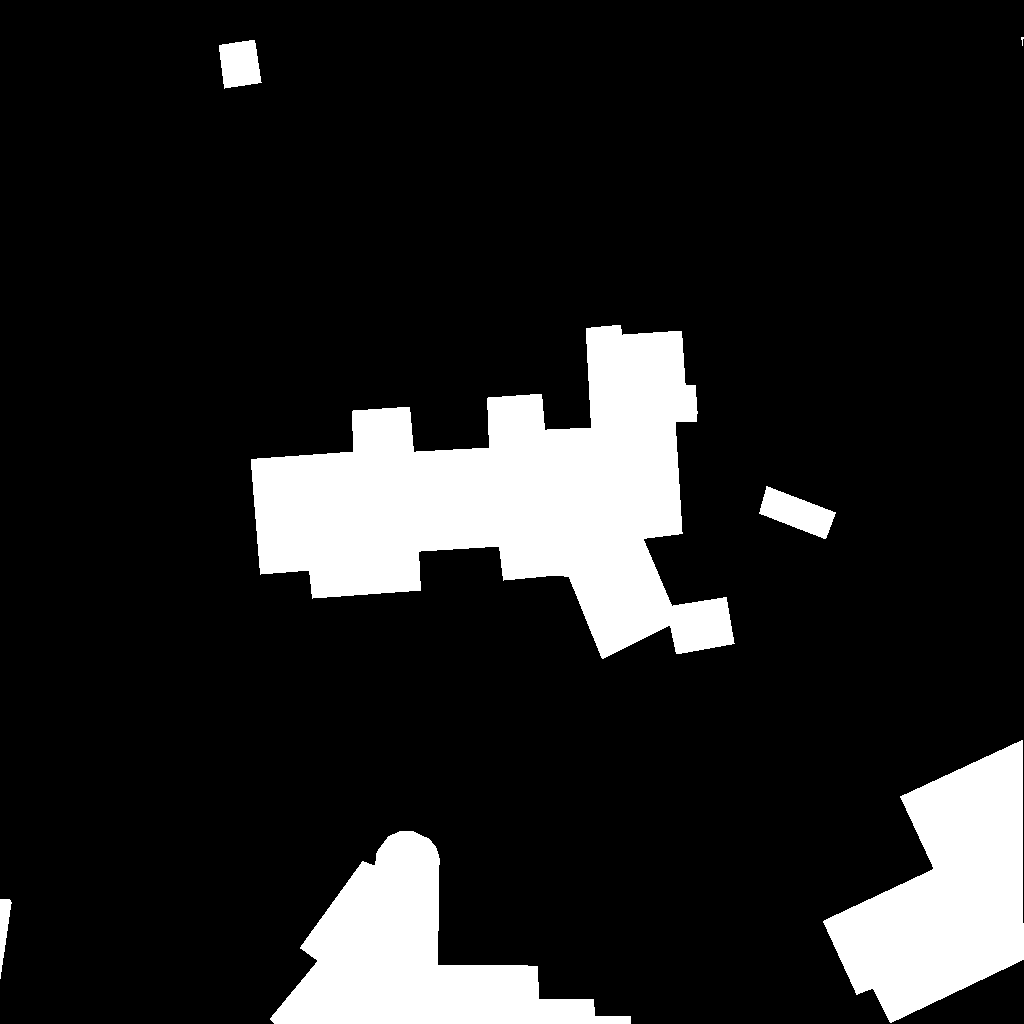building: (251, 325, 735, 660), (270, 831, 632, 1024), (823, 740, 1024, 1024), (759, 486, 837, 540), (219, 40, 262, 89), (0, 899, 12, 983), (1021, 37, 1024, 50)
